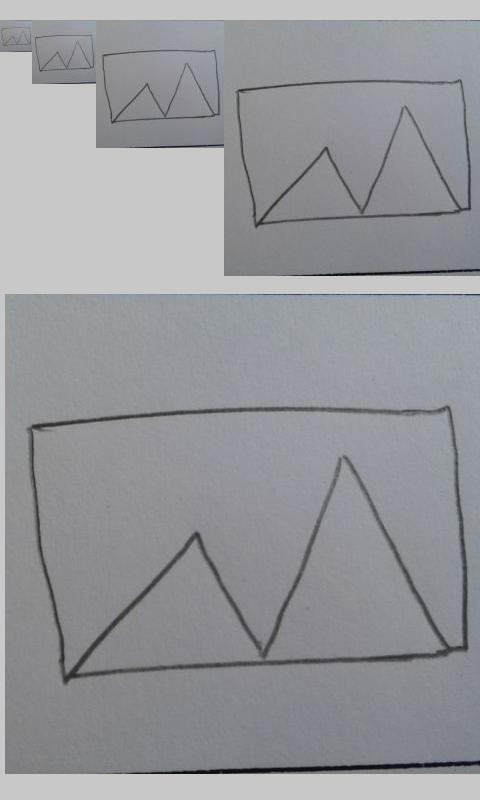image_view: (23, 402, 470, 684), (234, 78, 473, 228), (101, 49, 222, 124), (33, 34, 96, 73), (1, 26, 32, 47)
